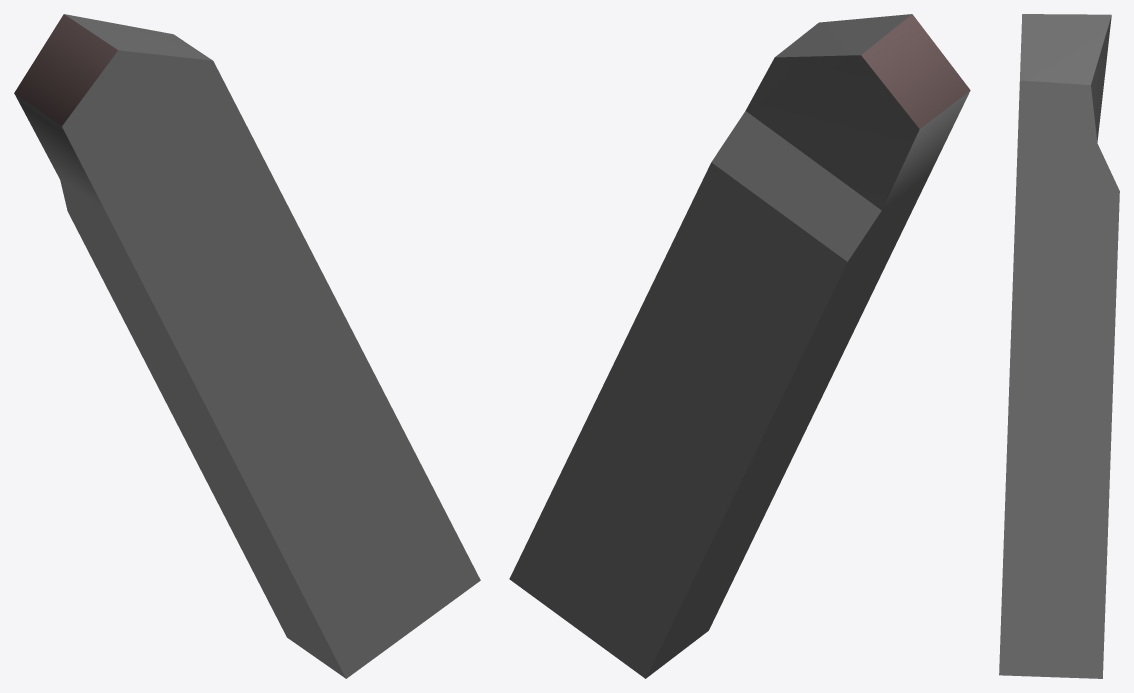
File: renqinjiao04.FBX
The picture shows the model from 3 angles, left to right: view 1: azimuth 30°, elevation 25°; view 2: azimuth 150°, elevation 25°; view 3: azimuth 270°, elevation 25°; orthographic projection. The views are drawn at different scales.
Visible parts, largest first — view 1: 车刀构造; view 2: 车刀构造; view 3: 车刀构造.
Part boxes in pixels (x1=…): 车刀构造: x1=14, y1=14, x2=480, y2=678; 车刀构造: x1=509, y1=14, x2=970, y2=678; 车刀构造: x1=999, y1=14, x2=1119, y2=678.
Size of the model in its own units: 53.4 by 16.08 by 84.45.
